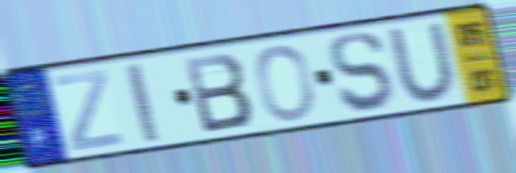B: (181, 50, 255, 136)
I: (121, 59, 163, 146)
O: (252, 42, 318, 123)
S: (327, 29, 396, 117)
U: (384, 19, 462, 104)
Z: (51, 67, 126, 154)
